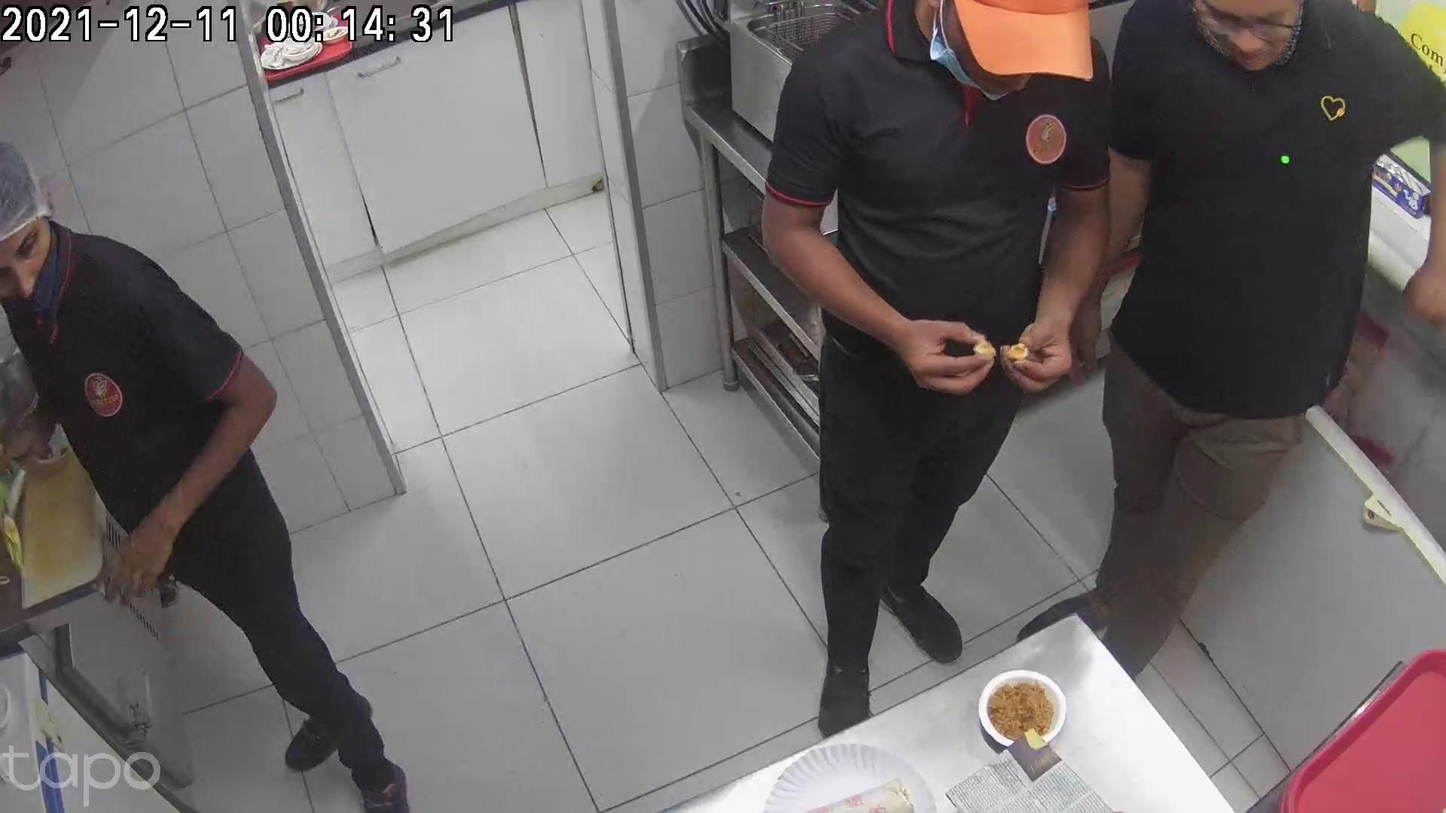no_gloves: (456, 362, 564, 467)
